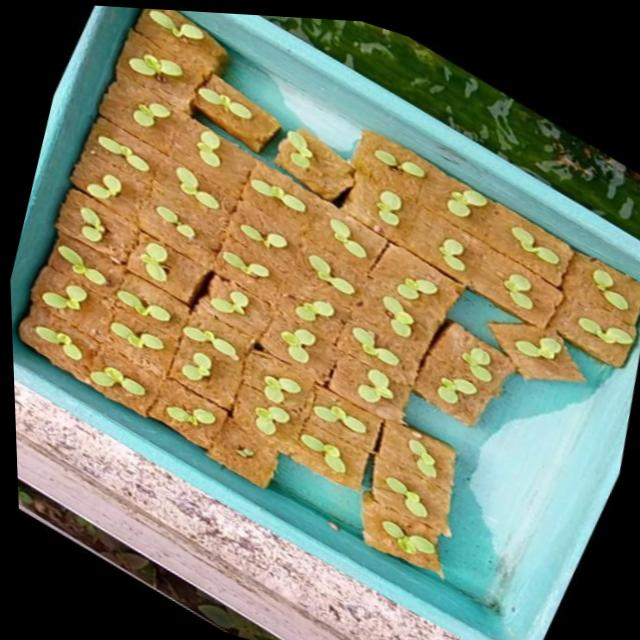Baby: (576, 262, 640, 313), (499, 320, 563, 370), (119, 92, 190, 137), (142, 200, 204, 246), (508, 226, 566, 274), (46, 238, 105, 283), (202, 274, 252, 320), (380, 295, 428, 342), (555, 295, 614, 332), (309, 392, 363, 432), (349, 322, 401, 363), (178, 323, 234, 358), (55, 204, 101, 246), (173, 165, 217, 208), (95, 134, 147, 170), (379, 515, 433, 549), (306, 253, 351, 293), (112, 287, 166, 320), (459, 340, 502, 381), (382, 472, 424, 512), (31, 325, 80, 359), (296, 434, 340, 471), (85, 364, 140, 393), (235, 221, 287, 248), (132, 240, 165, 281), (353, 365, 390, 400), (276, 324, 311, 360), (220, 250, 268, 276), (444, 188, 485, 217), (404, 434, 433, 473), (37, 282, 82, 307), (498, 271, 528, 307), (259, 372, 297, 400), (434, 375, 472, 403), (161, 402, 211, 423), (251, 400, 286, 430), (394, 274, 436, 299), (107, 320, 147, 345), (373, 189, 400, 225), (83, 174, 120, 200), (329, 219, 357, 253), (176, 349, 208, 378), (194, 129, 219, 166), (292, 299, 332, 320), (437, 237, 462, 269)
